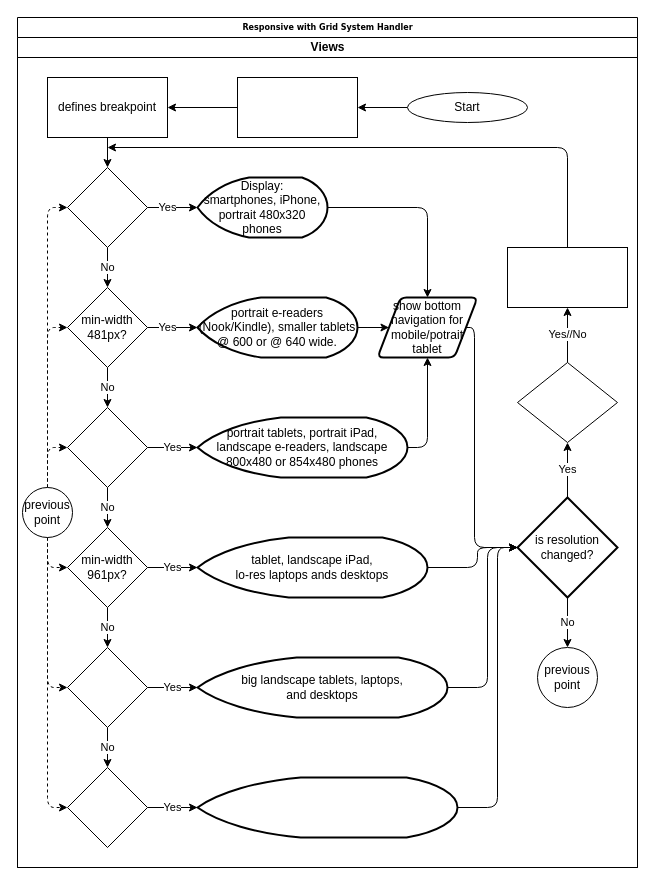
Some shapes in this 655 by 885 pixel diagram are drawn without their labels. Each missing label, with the box of its shape:
check/read user's screen resolution: (236, 76, 358, 138)
hi-res laptop and desktops: (196, 776, 458, 838)
is from landscape?: (516, 362, 618, 442)
min-width 1025px?: (66, 646, 148, 728)
min-width 1281px?: (66, 766, 148, 848)
min-width 320px?: (66, 166, 148, 248)
min-width 641px?: (66, 406, 148, 488)
transform column grid to row // vice versa: (506, 246, 628, 308)
